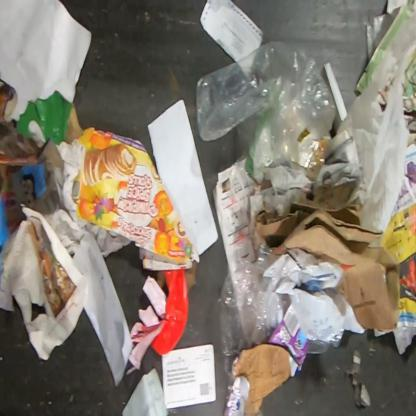cardboard: (254, 180, 400, 332), (54, 128, 200, 272)
rigid_plastic: (126, 269, 189, 377)
soft_plastic: (195, 41, 337, 184), (333, 49, 410, 233), (217, 242, 302, 357), (295, 291, 347, 354), (225, 374, 242, 415)
